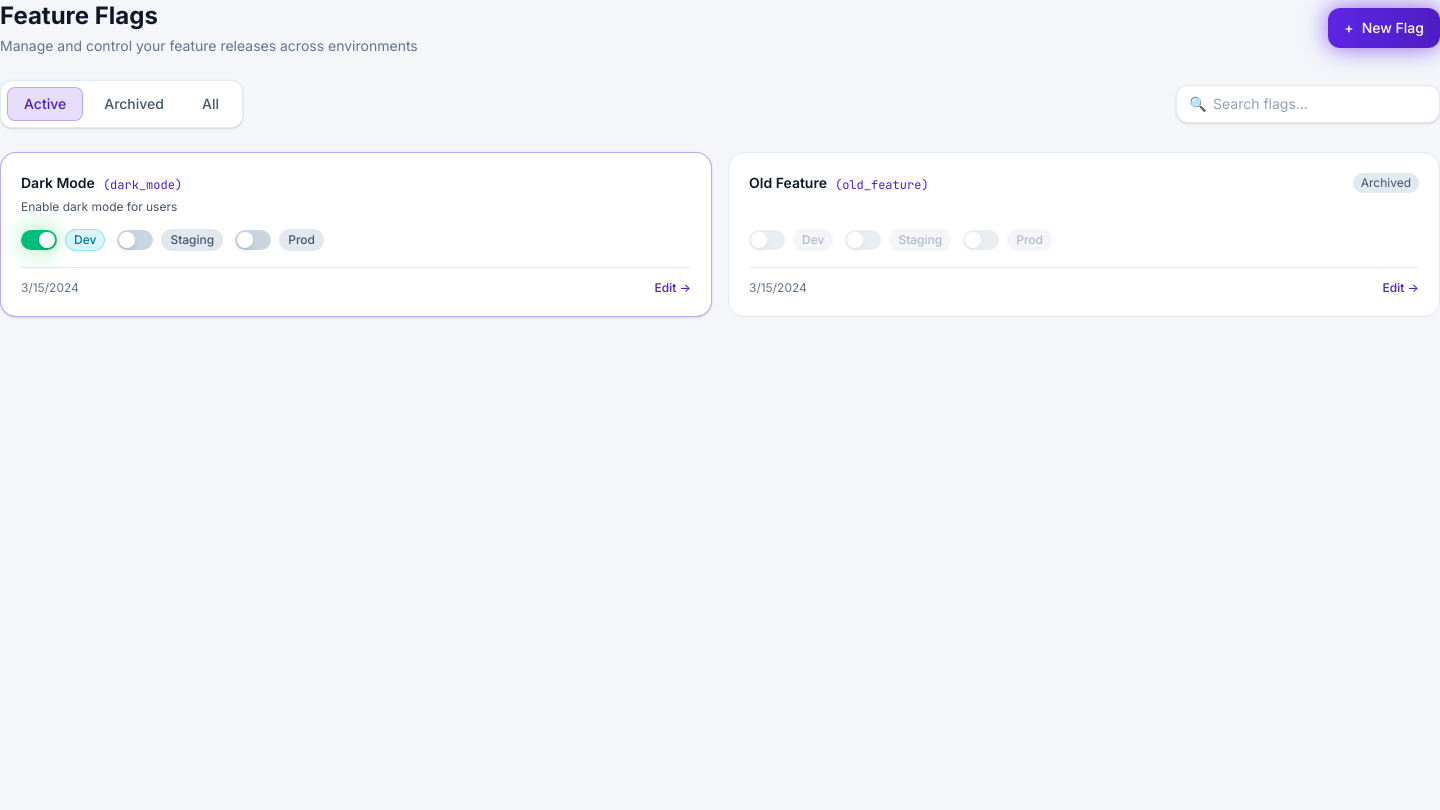
Test case: FlagsPage › opens Create Flag modal on button click
The image size is (1440, 810).
What coordinates should you click on to do the following:
click the button "+ New Flag"
I would click on:
 (1384, 28)
Its box is [1328,8,1439,48].
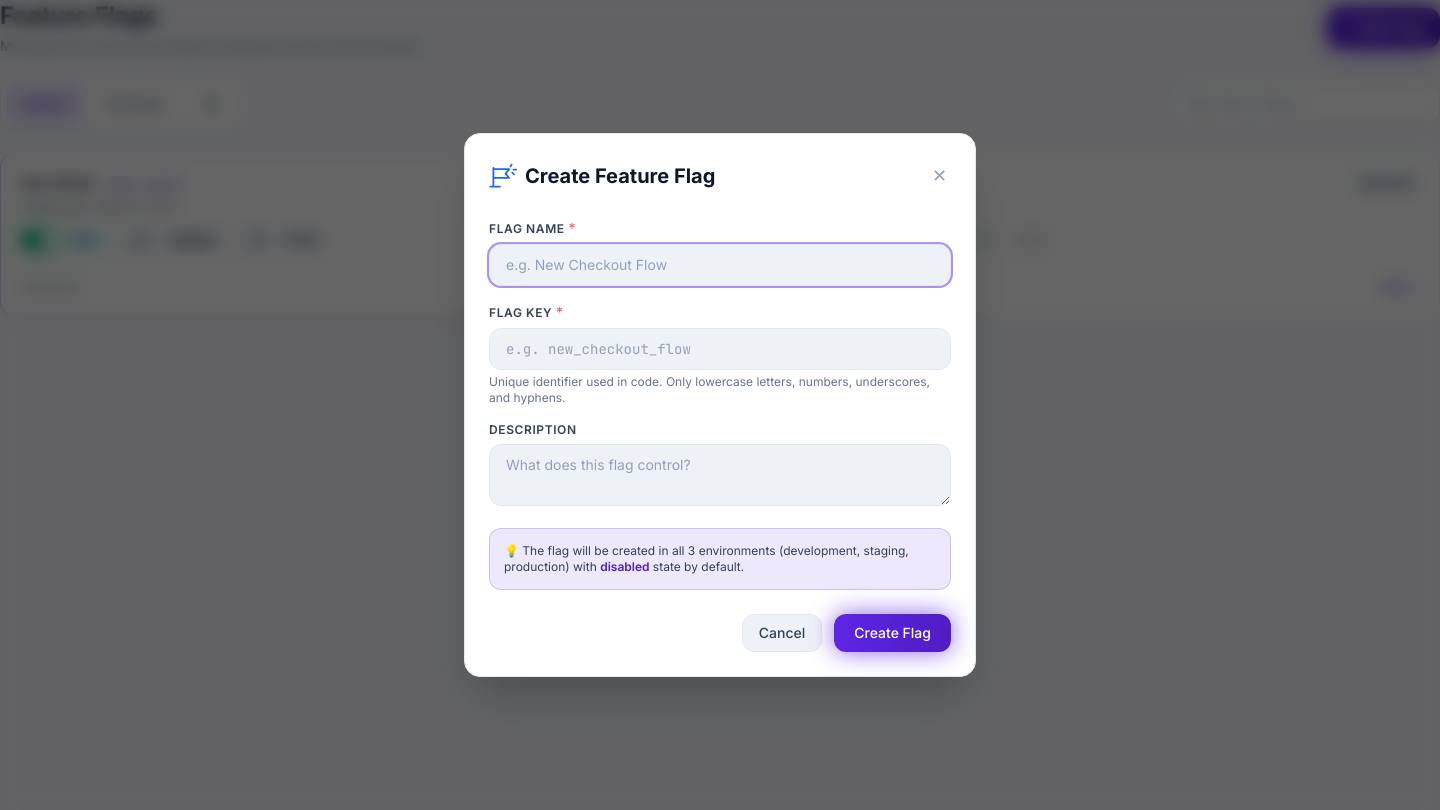
Result: the field labelled "Flag Name *" is shown at [489,244,951,286]
